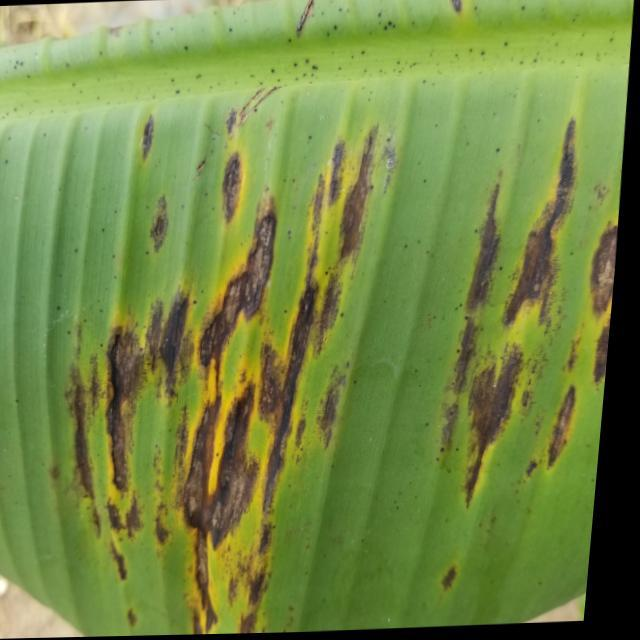Early_rust: (50, 58, 626, 611)
